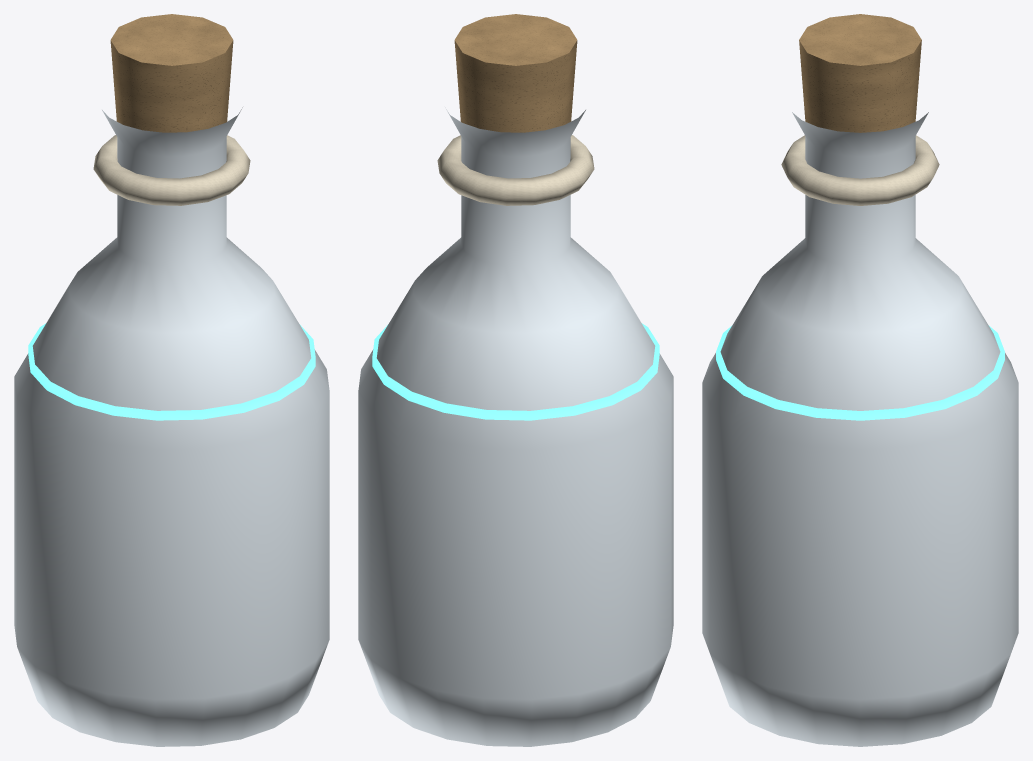
File: swift_potion.glb
The picture shows the model from 3 angles, left to right: view 1: azimuth 30°, elevation 25°; view 2: azimuth 150°, elevation 25°; view 3: azimuth 270°, elevation 25°; orthographic projection.
Parts seen in each view (by area): view 1: swift_potion; view 2: swift_potion; view 3: swift_potion.
Boxes of the visible parts, x1,y1,x2,y2 form: swift_potion: (14,14,329,746); swift_potion: (358,14,673,746); swift_potion: (702,14,1018,746).
Bounding box in the file's own units: 0.092 × 0.21 × 0.092.
Materials: 5 (2 with a texture image).
